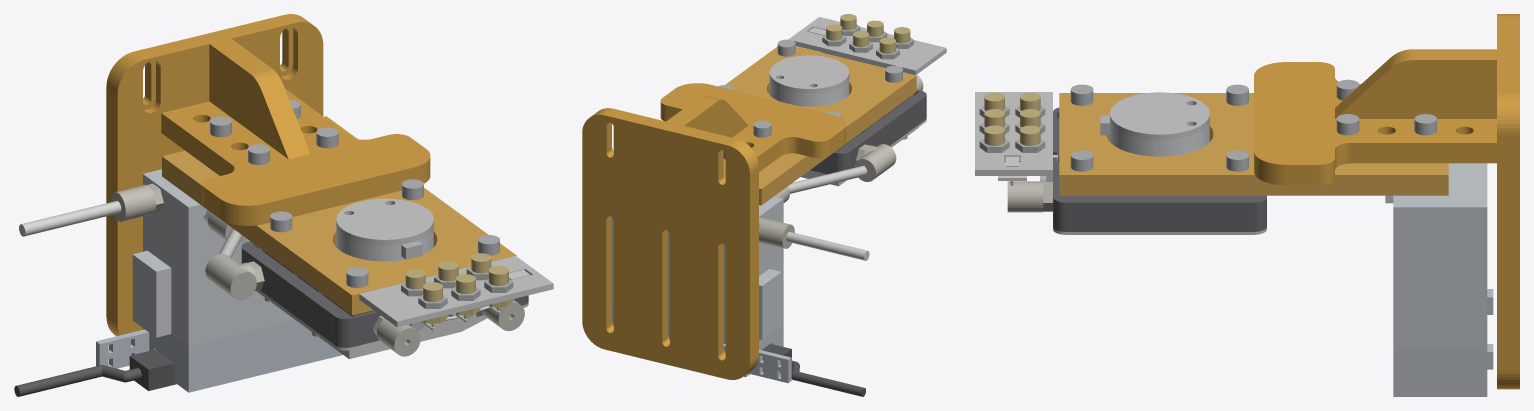
The picture shows the model from 3 angles, left to right: view 1: azimuth 30°, elevation 25°; view 2: azimuth 150°, elevation 25°; view 3: azimuth 270°, elevation 25°; orthographic projection. The views are drawn at different scales.
Parts seen in each view (by area): view 1: Grace 2025 앵글 브래킷 "angle bracket for Ramen holder.STEP" (형상 , [배기 블록 v2] 배기 센서 블록 본체 PETG 60x29x48.5 (가스 몸 17.5 + 센서 칸 31,, Grace 새 세로판 60x120x7 (재출력, 레진 가정), Ø4.5 x4 48x48, 가운데 Ø33 구멍, [배기 블록 v2] 덮개 PETG 60x29x16 (판 2 + Pico 트레이 14): Pico 보스 4, , 셀 몸체 Al 6061 흑색 아노다이징 70x66x10 R4 (포켓 31x31x4.5 R1.5, 블록 자리 , 커넥터 브래킷 Al (밑판 26x18x2 + 판 57x24x2): SMA 구멍 Ø6.5 x6 (3열 x 2행, 퍽 Al 방열 원판 Ø30.8x2 (가정, PETG 벽 끝에 2액형 에폭시), 나사 공구 구멍 Ø3.2 x2, [배기 블록 v2] USB 케이블 (노트북으로, 타이로 선반에 고정; 노트북은 허치 안 가능), SMA 암 판넬 잭 x6 (SAMZO SMA-KY-214형, 가정): 육각 어깨 AF 8 x 3 (판 앞),, 가스 KQ2H04-M5 x2 윗면 (+X 입구, −X 예비 N2/He), Ø2 → 앞면 (±19, +22), 가스 KQ2L04-M5 엘보 −X 옆면 출구 (Y 4.5, Z -20, 관 포트 아래로; 외형 가정), Ø2, M4x12 렌치볼트 x4 (판 뒤에서 몸체 M4 탭으로, 머리 Ø7x4) (+6 smaller); view 2: Grace 2025 앵글 브래킷 "angle bracket for Ramen holder.STEP" (형상 , Grace 새 세로판 60x120x7 (재출력, 레진 가정), Ø4.5 x4 48x48, 가운데 Ø33 구멍, [배기 블록 v2] 배기 센서 블록 본체 PETG 60x29x48.5 (가스 몸 17.5 + 센서 칸 31,, 셀 몸체 Al 6061 흑색 아노다이징 70x66x10 R4 (포켓 31x31x4.5 R1.5, 블록 자리 , 커넥터 브래킷 Al (밑판 26x18x2 + 판 57x24x2): SMA 구멍 Ø6.5 x6 (3열 x 2행, 퍽 Al 방열 원판 Ø30.8x2 (가정, PETG 벽 끝에 2액형 에폭시), 나사 공구 구멍 Ø3.2 x2, SMA 암 판넬 잭 x6 (SAMZO SMA-KY-214형, 가정): 육각 어깨 AF 8 x 3 (판 앞),, [배기 블록 v2] 덮개 PETG 60x29x16 (판 2 + Pico 트레이 14): Pico 보스 4, , 뒤 빛 퍽 PETG Ø30.8 (앞 플랜지 2 = 앞 턱 0.5 (Ø19) + 뒤 자리 Ø20.4x1.5, , [배기 블록 v2] USB 케이블 (노트북으로, 타이로 선반에 고정; 노트북은 허치 안 가능), 가스 KQ2L04-M5 엘보 −X 옆면 출구 (Y 4.5, Z -20, 관 포트 아래로; 외형 가정), Ø2, [배기 블록 v2] 배출 PU 관 Ø4 (토막만 그림, 실제 >= 300 mm) (+5 smaller); view 3: Grace 2025 앵글 브래킷 "angle bracket for Ramen holder.STEP" (형상 , Grace 새 세로판 60x120x7 (재출력, 레진 가정), Ø4.5 x4 48x48, 가운데 Ø33 구멍, [배기 블록 v2] 배기 센서 블록 본체 PETG 60x29x48.5 (가스 몸 17.5 + 센서 칸 31,, 셀 몸체 Al 6061 흑색 아노다이징 70x66x10 R4 (포켓 31x31x4.5 R1.5, 블록 자리 , [배기 블록 v2] 덮개 PETG 60x29x16 (판 2 + Pico 트레이 14): Pico 보스 4, , 퍽 Al 방열 원판 Ø30.8x2 (가정, PETG 벽 끝에 2액형 에폭시), 나사 공구 구멍 Ø3.2 x2, 커넥터 브래킷 Al (밑판 26x18x2 + 판 57x24x2): SMA 구멍 Ø6.5 x6 (3열 x 2행, SMA 암 판넬 잭 x6 (SAMZO SMA-KY-214형, 가정): 육각 어깨 AF 8 x 3 (판 앞),, M4x12 렌치볼트 x4 (판 뒤에서 몸체 M4 탭으로, 머리 Ø7x4), 뒤 빛 퍽 PETG Ø30.8 (앞 플랜지 2 = 앞 턱 0.5 (Ø19) + 뒤 자리 Ø20.4x1.5, , 가스 KQ2H04-M5 x2 윗면 (+X 입구, −X 예비 N2/He), Ø2 → 앞면 (±19, +22), M4x16 볼트 + 너트 x4 (판 아래 구멍 ↔ 브래킷 세움판 Ø5.6 구멍 y 29/53) (+2 smaller).
Boxes of the visible parts, x1=… form: Grace 2025 앵글 브래킷 "angle bracket for Ramen holder.STEP" (형상 : x1=106, y1=14, x2=430, y2=343; [배기 블록 v2] 배기 센서 블록 본체 PETG 60x29x48.5 (가스 몸 17.5 + 센서 칸 31,: x1=132, y1=169, x2=295, y2=346; Grace 새 세로판 60x120x7 (재출력, 레진 가정), Ø4.5 x4 48x48, 가운데 Ø33 구멍: x1=162, y1=116, x2=516, y2=315; [배기 블록 v2] 덮개 PETG 60x29x16 (판 2 + Pico 트레이 14): Pico 보스 4, : x1=96, y1=320, x2=342, y2=392; 셀 몸체 Al 6061 흑색 아노다이징 70x66x10 R4 (포켓 31x31x4.5 R1.5, 블록 자리 : x1=241, y1=241, x2=528, y2=347; 커넥터 브래킷 Al (밑판 26x18x2 + 판 57x24x2): SMA 구멍 Ø6.5 x6 (3열 x 2행: x1=359, y1=255, x2=553, y2=333; 퍽 Al 방열 원판 Ø30.8x2 (가정, PETG 벽 끝에 2액형 에폭시), 나사 공구 구멍 Ø3.2 x2: x1=336, y1=198, x2=433, y2=245; [배기 블록 v2] USB 케이블 (노트북으로, 타이로 선반에 고정; 노트북은 허치 안 가능): x1=14, y1=349, x2=176, y2=396; SMA 암 판넬 잭 x6 (SAMZO SMA-KY-214형, 가정): 육각 어깨 AF 8 x 3 (판 앞),: x1=405, y1=253, x2=513, y2=327; 가스 KQ2H04-M5 x2 윗면 (+X 입구, −X 예비 N2/He), Ø2 → 앞면 (±19, +22): x1=372, y1=299, x2=524, y2=356; 가스 KQ2L04-M5 엘보 −X 옆면 출구 (Y 4.5, Z -20, 관 포트 아래로; 외형 가정), Ø2: x1=205, y1=254, x2=264, y2=300; M4x12 렌치볼트 x4 (판 뒤에서 몸체 M4 탭으로, 머리 Ø7x4): x1=270, y1=179, x2=499, y2=287; Grace 2025 앵글 브래킷 "angle bracket for Ramen holder.STEP" (형상 : x1=582, y1=83, x2=846, y2=379; Grace 새 세로판 60x120x7 (재출력, 레진 가정), Ø4.5 x4 48x48, 가운데 Ø33 구멍: x1=725, y1=46, x2=916, y2=205; [배기 블록 v2] 배기 센서 블록 본체 PETG 60x29x48.5 (가스 몸 17.5 + 센서 칸 31,: x1=612, y1=196, x2=783, y2=339; 셀 몸체 Al 6061 흑색 아노다이징 70x66x10 R4 (포켓 31x31x4.5 R1.5, 블록 자리 : x1=810, y1=89, x2=926, y2=174; 커넥터 브래킷 Al (밑판 26x18x2 + 판 57x24x2): SMA 구멍 Ø6.5 x6 (3열 x 2행: x1=788, y1=17, x2=946, y2=75; 퍽 Al 방열 원판 Ø30.8x2 (가정, PETG 벽 끝에 2액형 에폭시), 나사 공구 구멍 Ø3.2 x2: x1=769, y1=55, x2=849, y2=93; SMA 암 판넬 잭 x6 (SAMZO SMA-KY-214형, 가정): 육각 어깨 AF 8 x 3 (판 앞),: x1=826, y1=14, x2=910, y2=67; [배기 블록 v2] 덮개 PETG 60x29x16 (판 2 + Pico 트레이 14): Pico 보스 4, : x1=612, y1=307, x2=791, y2=383; 뒤 빛 퍽 PETG Ø30.8 (앞 플랜지 2 = 앞 턱 0.5 (Ø19) + 뒤 자리 Ø20.4x1.5, : x1=769, y1=78, x2=849, y2=106; [배기 블록 v2] USB 케이블 (노트북으로, 타이로 선반에 고정; 노트북은 허치 안 가능): x1=762, y1=344, x2=865, y2=396; 가스 KQ2L04-M5 엘보 −X 옆면 출구 (Y 4.5, Z -20, 관 포트 아래로; 외형 가정), Ø2: x1=854, y1=144, x2=896, y2=181; [배기 블록 v2] 배출 PU 관 Ø4 (토막만 그림, 실제 >= 300 mm): x1=786, y1=231, x2=869, y2=260; Grace 2025 앵글 브래킷 "angle bracket for Ramen holder.STEP" (형상 : x1=1254, y1=14, x2=1519, y2=389; Grace 새 세로판 60x120x7 (재출력, 레진 가정), Ø4.5 x4 48x48, 가운데 Ø33 구멍: x1=1059, y1=93, x2=1448, y2=195; [배기 블록 v2] 배기 센서 블록 본체 PETG 60x29x48.5 (가스 몸 17.5 + 센서 칸 31,: x1=1385, y1=163, x2=1487, y2=349; 셀 몸체 Al 6061 흑색 아노다이징 70x66x10 R4 (포켓 31x31x4.5 R1.5, 블록 자리 : x1=1053, y1=107, x2=1266, y2=231; [배기 블록 v2] 덮개 PETG 60x29x16 (판 2 + Pico 트레이 14): Pico 보스 4, : x1=1393, y1=289, x2=1493, y2=396; 퍽 Al 방열 원판 Ø30.8x2 (가정, PETG 벽 끝에 2액형 에폭시), 나사 공구 구멍 Ø3.2 x2: x1=1110, y1=92, x2=1209, y2=140; 커넥터 브래킷 Al (밑판 26x18x2 + 판 57x24x2): SMA 구멍 Ø6.5 x6 (3열 x 2행: x1=975, y1=92, x2=1052, y2=181; SMA 암 판넬 잭 x6 (SAMZO SMA-KY-214형, 가정): 육각 어깨 AF 8 x 3 (판 앞),: x1=984, y1=92, x2=1040, y2=162; M4x12 렌치볼트 x4 (판 뒤에서 몸체 M4 탭으로, 머리 Ø7x4): x1=1070, y1=84, x2=1248, y2=171; 뒤 빛 퍽 PETG Ø30.8 (앞 플랜지 2 = 앞 턱 0.5 (Ø19) + 뒤 자리 Ø20.4x1.5, : x1=1110, y1=120, x2=1209, y2=156; 가스 KQ2H04-M5 x2 윗면 (+X 입구, −X 예비 N2/He), Ø2 → 앞면 (±19, +22): x1=1007, y1=181, x2=1052, y2=212; M4x16 볼트 + 너트 x4 (판 아래 구멍 ↔ 브래킷 세움판 Ø5.6 구멍 y 29/53): x1=1336, y1=79, x2=1436, y2=135.
Bounding box in the file's own units: 117 × 104 × 168.
